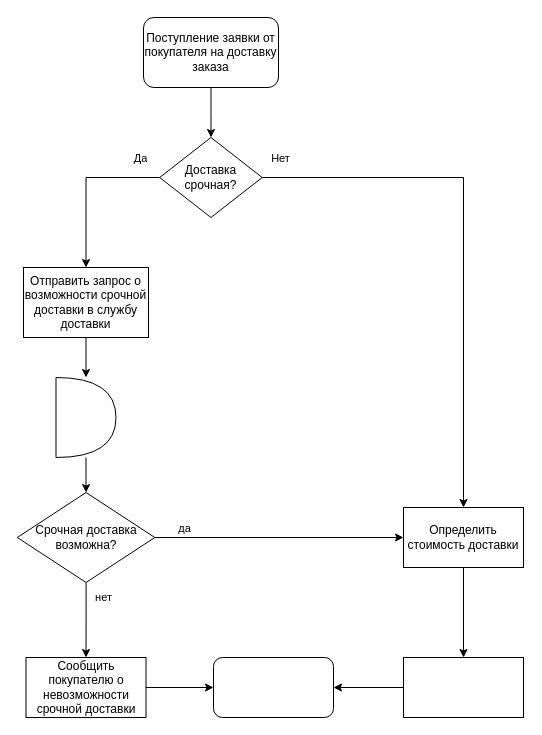
Some shapes in this 542 by 735 pixel diagram are drawn without their labels. Each missing label, with the box of its shape:
10 минут: (55, 376, 116, 458)
Заключение сделки и оформление заказа: (212, 656, 334, 718)
Согласовать стоимость и срок доставки с покупателем: (402, 656, 524, 718)
